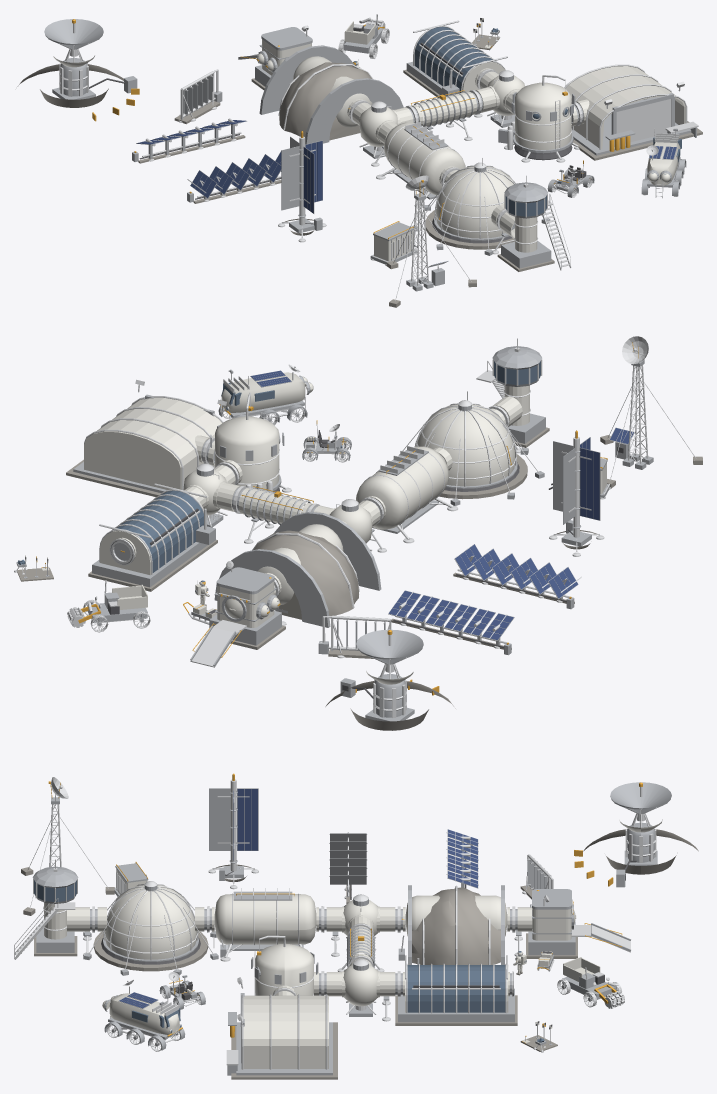
The model's file is colony-o-5943a18b-starter-scene.glb.
3 views of the same model, one above another, from view 1: azimuth 30°, elevation 25°; view 2: azimuth 150°, elevation 25°; view 3: azimuth 270°, elevation 25° (orthographic). The views are drawn at different scales.
Parts seen in each view (by area): view 1: 004-regolith-shielded-habitat/1, 002-inflatable-dome-habitat/0, 010-workshop-module/2, 009-medical-module/0, 004-regolith-shielded-habitat/3, 001-rigid-cylinder-habitat/0, 008-greenhouse-module/2, 016-nuclear-power-unit/1, 013-vertical-solar-tower/1, 011-solar-array-row/3, 010-workshop-module/door-roll, 003-cupola-observation-turret/1 (+39 smaller); view 2: 010-workshop-module/2, 002-inflatable-dome-habitat/0, 004-regolith-shielded-habitat/1, 004-regolith-shielded-habitat/3, 001-rigid-cylinder-habitat/0, 009-medical-module/0, 008-greenhouse-module/2, 016-nuclear-power-unit/1, 005-airlock-with-dust-lock-vestibule/1, 011-solar-array-row/3, 013-vertical-solar-tower/1, 008-greenhouse-module/3 (+34 smaller); view 3: 010-workshop-module/2, 002-inflatable-dome-habitat/0, 004-regolith-shielded-habitat/3, 001-rigid-cylinder-habitat/0, 008-greenhouse-module/2, 009-medical-module/0, 016-nuclear-power-unit/1, 005-airlock-with-dust-lock-vestibule/1, 007-connecting-tunnel-tee/0, 013-vertical-solar-tower/1, 002-inflatable-dome-habitat/4, 011-solar-array-row/2 (+33 smaller).
Part boxes in pixels (x1=…): 004-regolith-shielded-habitat/1: x1=259, y1=45, x2=403, y2=144; 002-inflatable-dome-habitat/0: x1=436, y1=166, x2=514, y2=238; 010-workshop-module/2: x1=565, y1=66, x2=685, y2=149; 009-medical-module/0: x1=515, y1=82, x2=577, y2=149; 004-regolith-shielded-habitat/3: x1=279, y1=62, x2=371, y2=140; 001-rigid-cylinder-habitat/0: x1=384, y1=122, x2=465, y2=195; 008-greenhouse-module/2: x1=414, y1=26, x2=492, y2=92; 016-nuclear-power-unit/1: x1=44, y1=19, x2=137, y2=99; 013-vertical-solar-tower/1: x1=281, y1=136, x2=322, y2=233; 011-solar-array-row/3: x1=190, y1=151, x2=281, y2=197; 010-workshop-module/door-roll: x1=616, y1=99, x2=671, y2=144; 003-cupola-observation-turret/1: x1=499, y1=182, x2=551, y2=268; 010-workshop-module/2: x1=84, y1=397, x2=221, y2=489; 002-inflatable-dome-habitat/0: x1=416, y1=404, x2=515, y2=486; 004-regolith-shielded-habitat/1: x1=214, y1=511, x2=381, y2=627; 004-regolith-shielded-habitat/3: x1=253, y1=530, x2=358, y2=619; 001-rigid-cylinder-habitat/0: x1=356, y1=446, x2=448, y2=529; 009-medical-module/0: x1=208, y1=416, x2=279, y2=490; 008-greenhouse-module/2: x1=117, y1=490, x2=203, y2=572; 016-nuclear-power-unit/1: x1=340, y1=629, x2=423, y2=721; 005-airlock-with-dust-lock-vestibule/1: x1=190, y1=567, x2=281, y2=666; 011-solar-array-row/3: x1=455, y1=544, x2=577, y2=598; 013-vertical-solar-tower/1: x1=553, y1=437, x2=600, y2=546; 008-greenhouse-module/3: x1=99, y1=483, x2=206, y2=574; 010-workshop-module/2: x1=243, y1=991, x2=328, y2=1068; 002-inflatable-dome-habitat/0: x1=97, y1=885, x2=204, y2=959; 004-regolith-shielded-habitat/3: x1=412, y1=887, x2=500, y2=964; 001-rigid-cylinder-habitat/0: x1=212, y1=894, x2=318, y2=944; 008-greenhouse-module/2: x1=407, y1=965, x2=505, y2=1012; 009-medical-module/0: x1=255, y1=943, x2=318, y2=995; 016-nuclear-power-unit/1: x1=610, y1=782, x2=671, y2=887; 005-airlock-with-dust-lock-vestibule/1: x1=515, y1=889, x2=631, y2=955; 007-connecting-tunnel-tee/0: x1=326, y1=958, x2=395, y2=1006; 013-vertical-solar-tower/1: x1=209, y1=788, x2=258, y2=880; 002-inflatable-dome-habitat/4: x1=88, y1=874, x2=213, y2=970; 011-solar-array-row/2: x1=330, y1=833, x2=366, y2=896.
Bounding box in the file's own units: 45.5 × 9.99 × 54.13.
